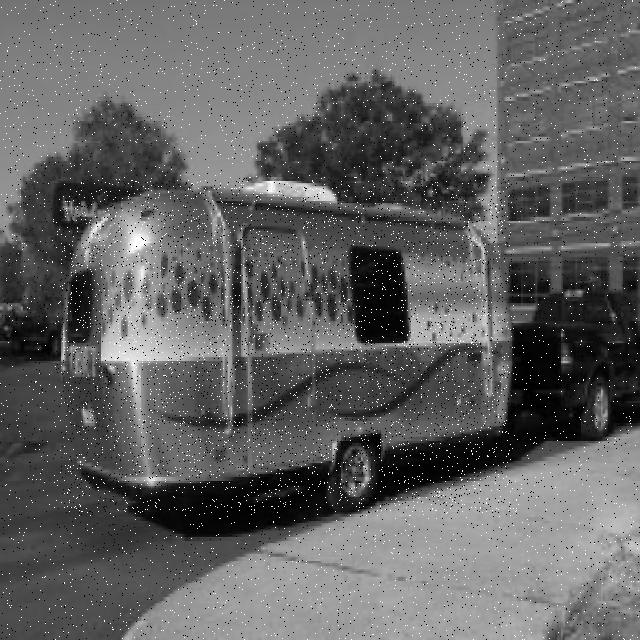Box Truck: (61, 180, 514, 513)
